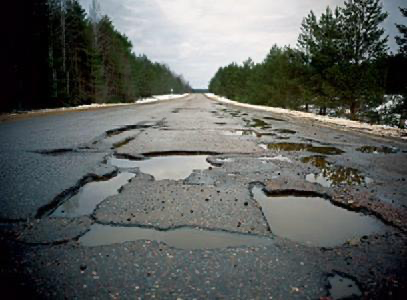pothole: (247, 179, 407, 252), (75, 219, 272, 254), (33, 170, 139, 220), (105, 152, 224, 184), (300, 154, 372, 188), (94, 122, 152, 152), (257, 139, 346, 154), (325, 268, 365, 300), (37, 146, 77, 158), (356, 144, 401, 154)
